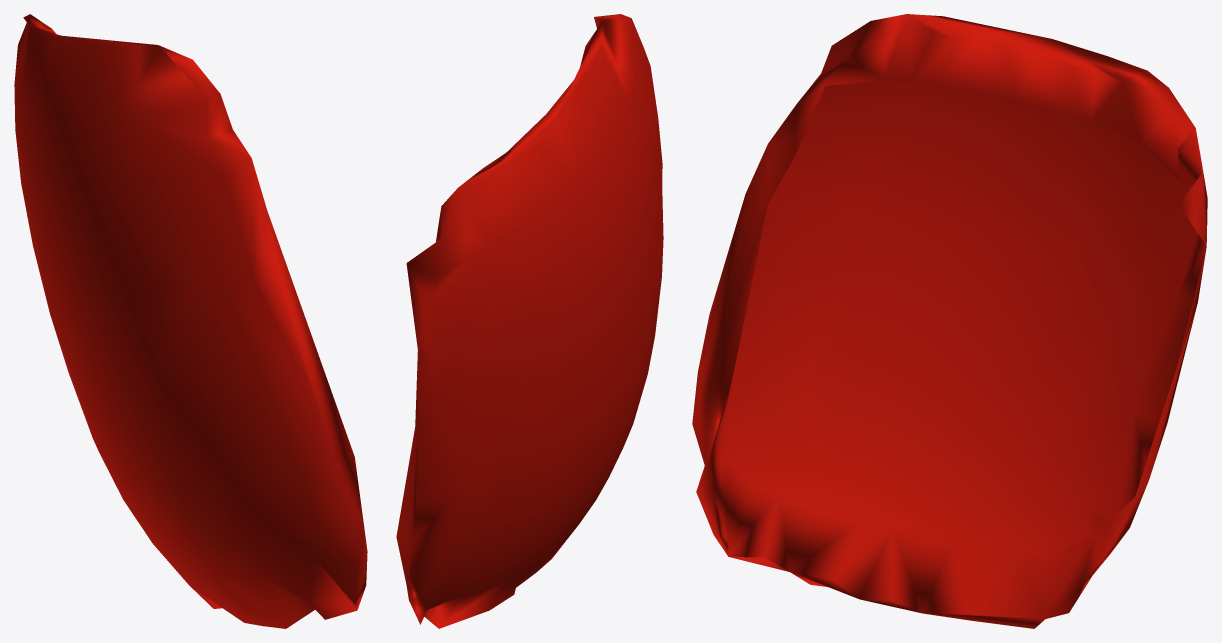
File: Nao6_Right_Arm_Forearm_Orange.obj
3 renders of one model, left to right at view 1: azimuth 30°, elevation 25°; view 2: azimuth 150°, elevation 25°; view 3: azimuth 270°, elevation 25°, orthographic. The views are drawn at different scales.
Parts seen in each view (by area): view 1: Nao6_Right_Arm_Forearm_Orange; view 2: Nao6_Right_Arm_Forearm_Orange; view 3: Nao6_Right_Arm_Forearm_Orange.
Boxes of the visible parts, box(x1,y1,x2,y2) form: Nao6_Right_Arm_Forearm_Orange: box(14, 14, 367, 628); Nao6_Right_Arm_Forearm_Orange: box(396, 14, 663, 628); Nao6_Right_Arm_Forearm_Orange: box(692, 14, 1207, 628).
Bounding box in the file's own units: 0.1171 × 0.4142 × 0.34.
